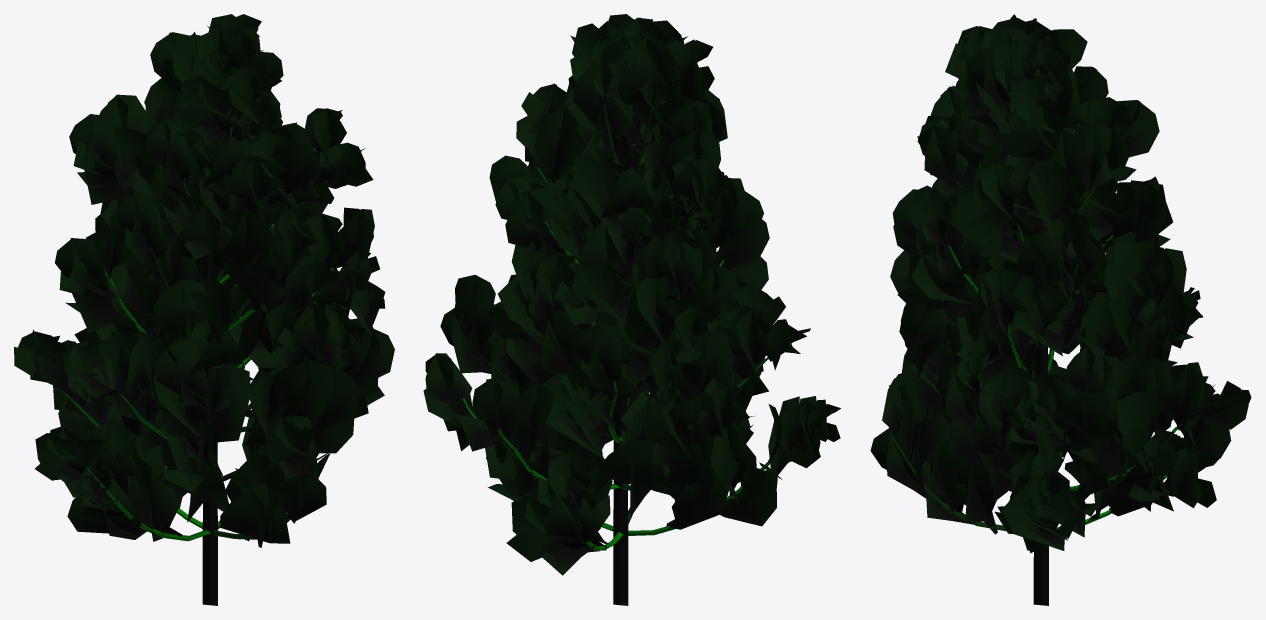
Rendered from TTFE_Pine Garden.fbx.
3 renders of one model, left to right at view 1: azimuth 30°, elevation 25°; view 2: azimuth 150°, elevation 25°; view 3: azimuth 270°, elevation 25°, orthographic.
Parts seen in each view (by area): view 1: TTFE_Pine Garden; view 2: TTFE_Pine Garden; view 3: TTFE_Pine Garden.
Part boxes in pixels (box(x1,y1,x2,y2)): TTFE_Pine Garden: box(14, 14, 394, 605); TTFE_Pine Garden: box(423, 14, 840, 605); TTFE_Pine Garden: box(870, 14, 1251, 605).
Bounding box in the file's own units: 3.48 × 5.1 × 3.01.
